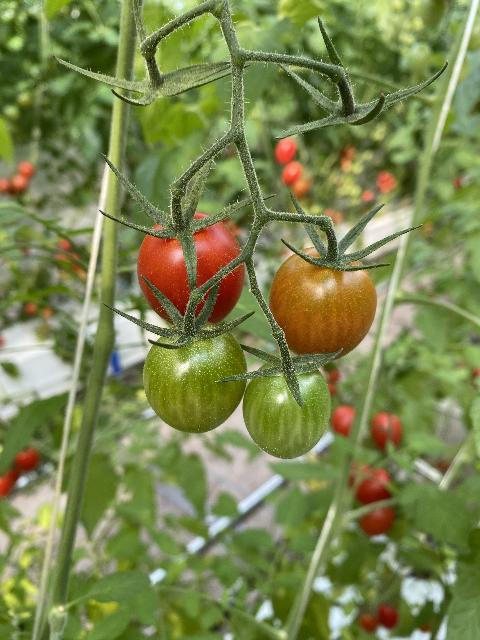l_fully_ripened: (136, 209, 247, 327)
l_green: (142, 322, 248, 434), (242, 356, 332, 460)
l_half_ripened: (268, 247, 377, 360)
